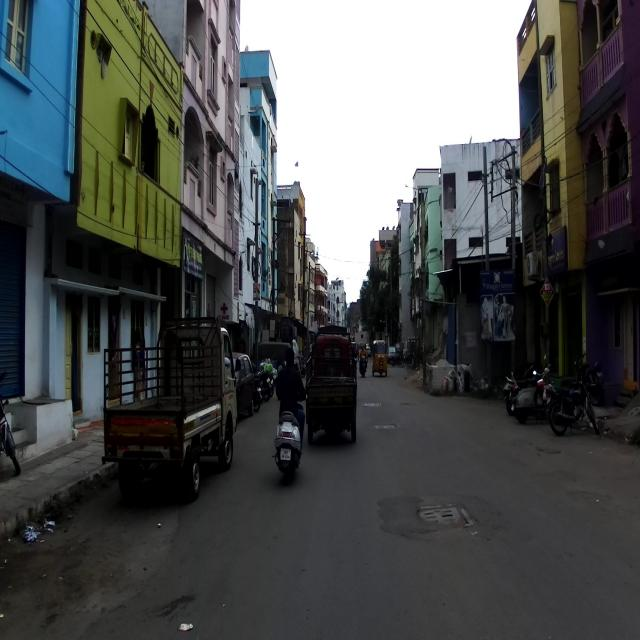autorickshaw: (303, 323, 358, 443)
motorcycle_Hero: (545, 359, 598, 436)
scooter: (271, 386, 307, 482), (510, 352, 553, 422)
truck: (100, 313, 241, 505)
